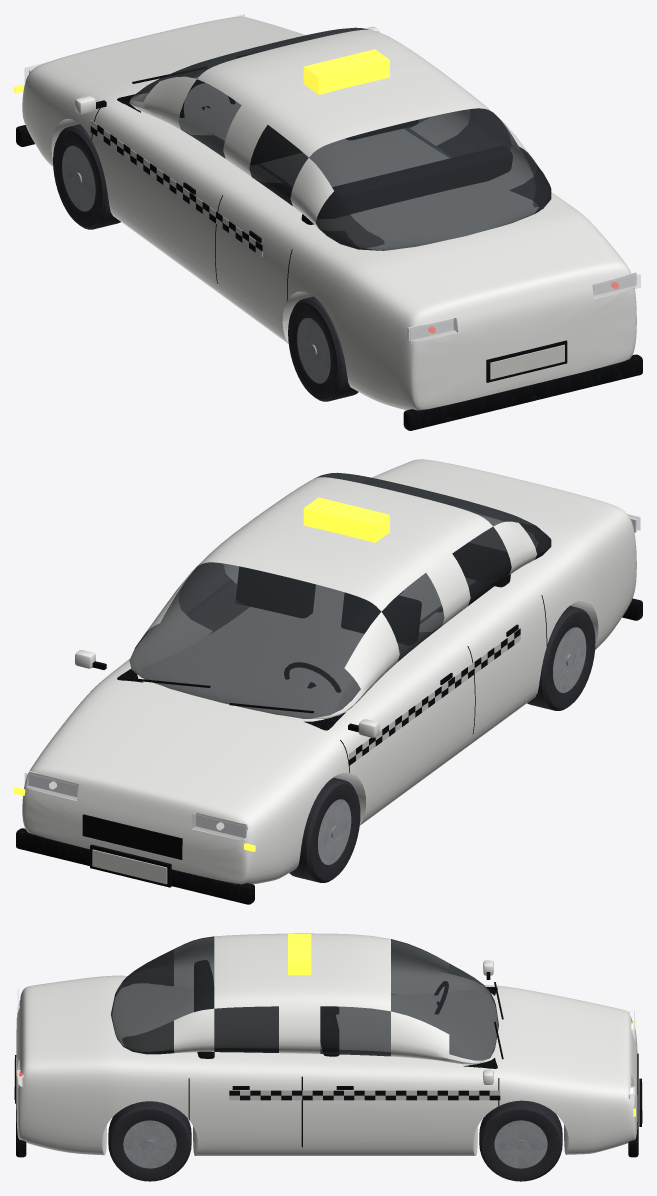
File: taxi_white.gltf
3 views of the same model, one above another, from view 1: azimuth 30°, elevation 25°; view 2: azimuth 150°, elevation 25°; view 3: azimuth 270°, elevation 25° (orthographic). The views are drawn at different scales.
Visible parts, largest first — view 1: taxi_white; view 2: taxi_white; view 3: taxi_white.
Part boxes in pixels (<box>): taxi_white: <box>14,14,642,430</box>; taxi_white: <box>14,459,642,904</box>; taxi_white: <box>14,933,642,1181</box>.
Bounding box in the file's own units: 2.11 × 1.57 × 4.83.
19 materials, 10 textured.
